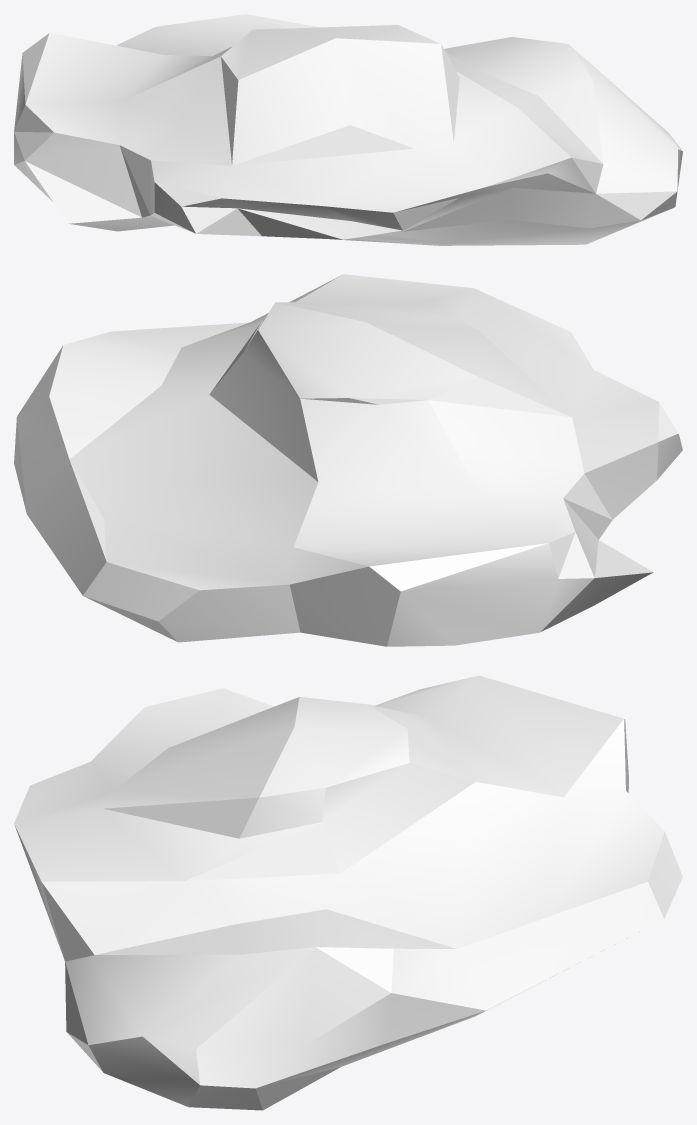
Rendered from ground.rock4.glb.
3 views of the same model, one above another, from view 1: azimuth 30°, elevation 25°; view 2: azimuth 150°, elevation 25°; view 3: azimuth 270°, elevation 25° (orthographic). The views are drawn at different scales.
Parts seen in each view (by area): view 1: rock4; view 2: rock4; view 3: rock4.
Boxes of the visible parts, x1,y1,x2,y2 form: rock4: [14, 14, 682, 245]; rock4: [14, 274, 682, 646]; rock4: [14, 675, 682, 1110].
Bounding box in the file's own units: 1.03 × 0.3867 × 0.9213.
Materials: 1 (1 with a texture image).
